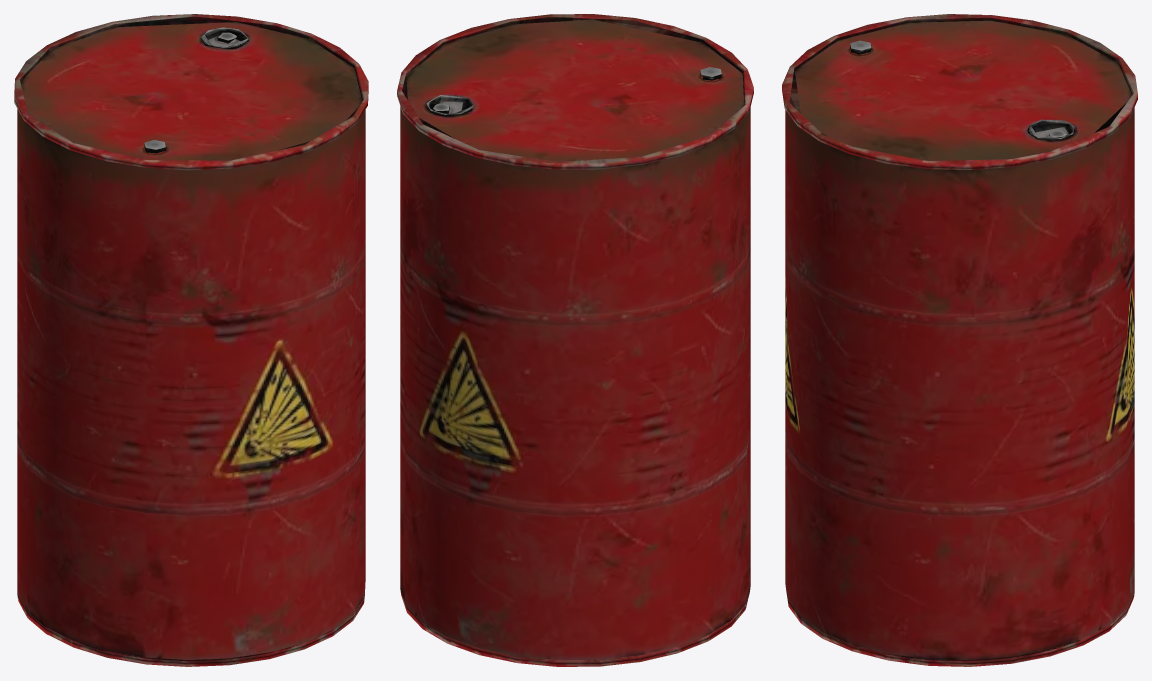
The model's file is sci-fi-barrel.collider.glb.
3 renders of one model, left to right at view 1: azimuth 30°, elevation 25°; view 2: azimuth 150°, elevation 25°; view 3: azimuth 270°, elevation 25°, orthographic.
Parts seen in each view (by area): view 1: Barrel_01; view 2: Barrel_01; view 3: Barrel_01.
Boxes of the visible parts, <box> form: Barrel_01: <box>14,14,368,666</box>; Barrel_01: <box>397,14,753,666</box>; Barrel_01: <box>782,14,1137,666</box>.
Size of the model in its own units: 0.5603 by 0.8789 by 0.5603.
1 material, 1 textured.
